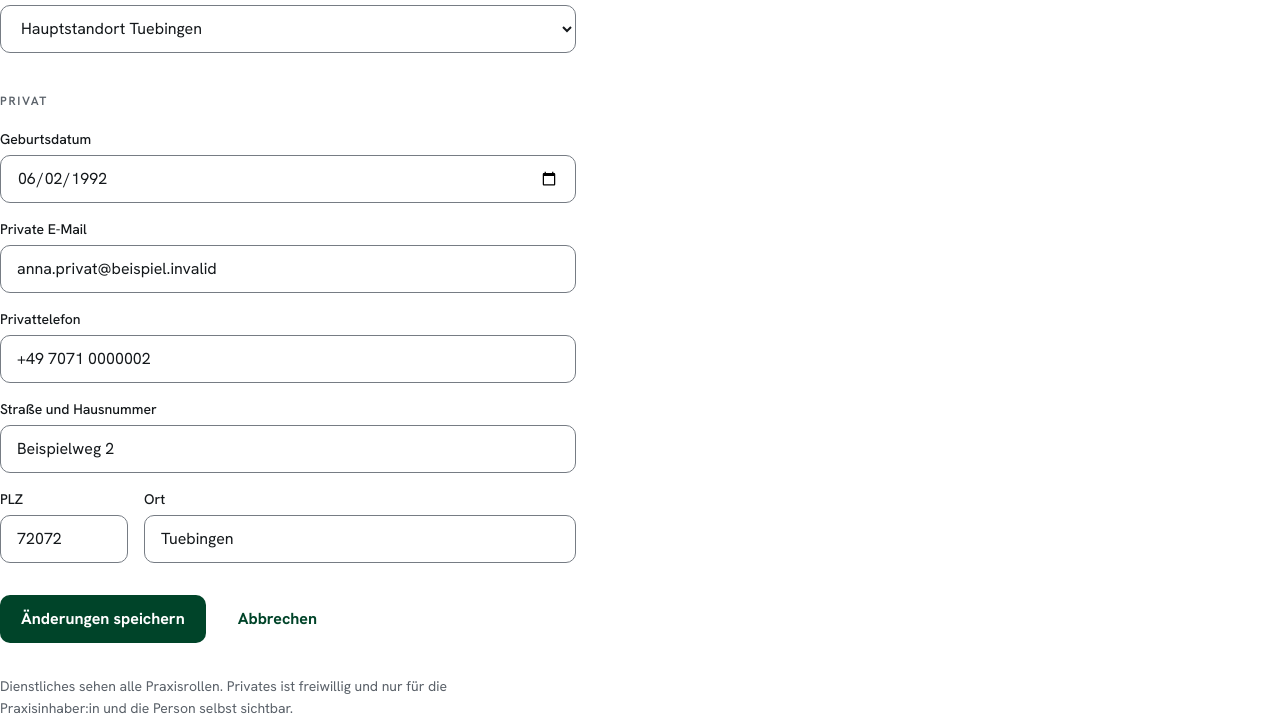
Scenario: EditStaffMemberPage › meldet einen Speicherfehler im Fenster und laesst die Eingaben stehen (ORG-15)
(page scrolled)
Click the button "Änderungen speichern".
click(103, 619)  # box [0,595,206,643]
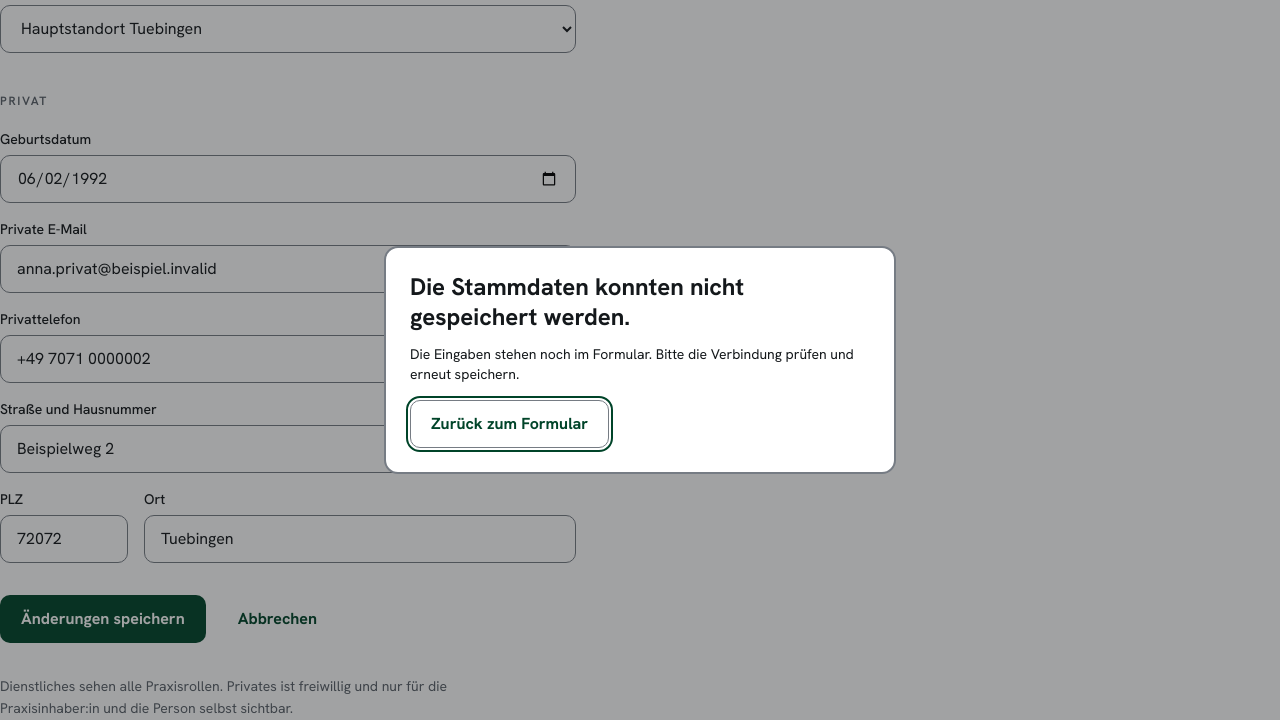
Expected: the dialog "Die Stammdaten konnten nicht gespeichert werden." shows "Bitte die Verbindung prüfen und erneut speichern.", [410,345,854,383]
